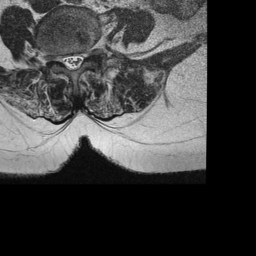CCS_normal: (69, 44, 76, 79)
LFS_normal: (83, 40, 91, 65)
LLS_normal: (76, 44, 84, 72)
RFS_normal: (53, 45, 61, 68)
RLS_normal: (61, 46, 69, 74)
